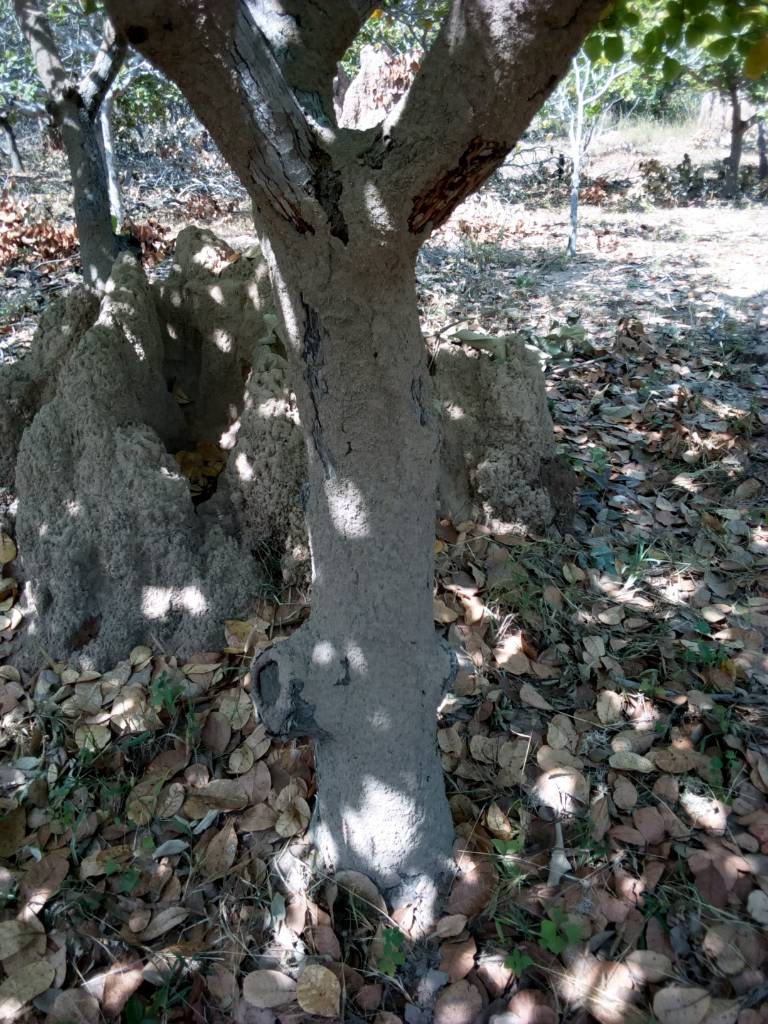Termites: (307, 221, 436, 869), (27, 321, 236, 638), (340, 27, 549, 210), (443, 346, 560, 496)
